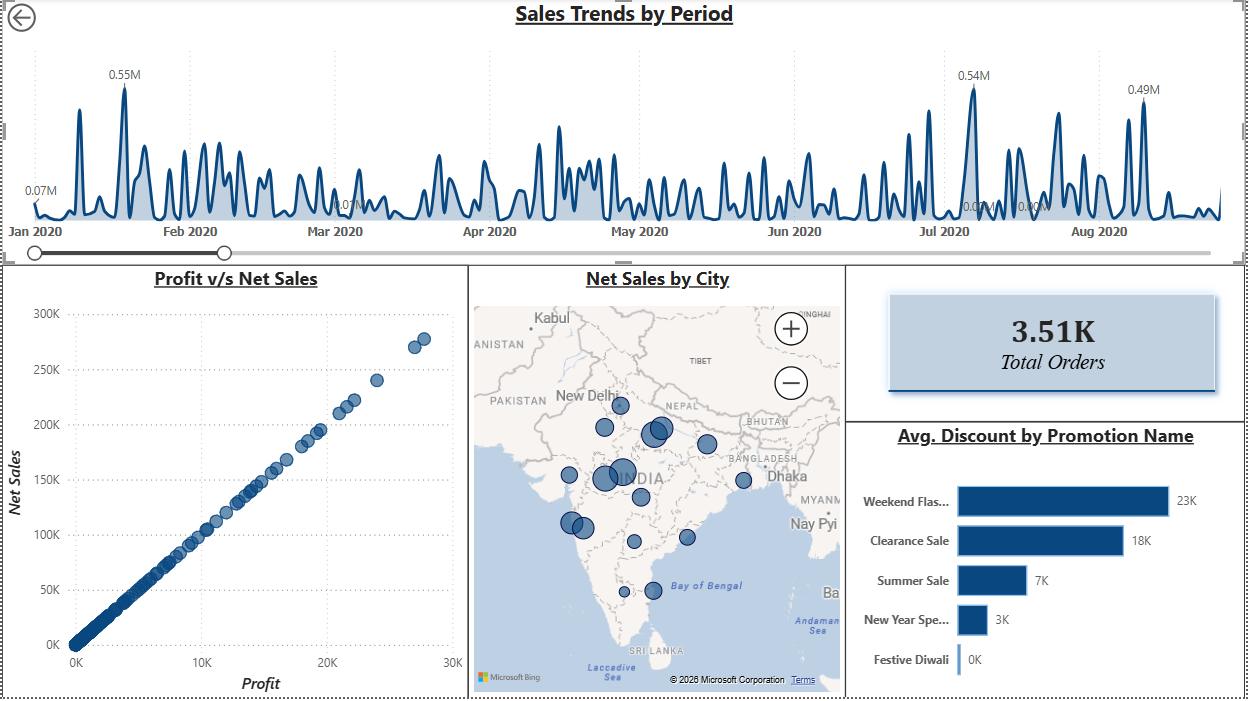

What the dashboard file says about the page in this screenshot:
{"tool":"powerbi","page":{"name":"Sales Overview","canvas":[1280,720],"ordinal":0},"visuals":[{"type":"lineChart","title":"Sales Trends by Period","fields":{"Y":["Sum(Fact Table.Net Sales)"],"Category":["Fact Table.Date (dd/mm/yyyy)"]},"box":[0,0,1280,275],"z":0},{"type":"scatterChart","title":"Profit v/s Net Sales","fields":{"X":["Fact Table.Profit"],"Y":["Fact Table.Net Sales"]},"box":[0,274.3,480,447.1],"z":1000},{"type":"map","title":"Net Sales by City","fields":{"Category":["Dim Customers.City"],"Size":["Sum(Fact Table.Net Sales)"]},"box":[480,274.3,388.6,445.7],"z":2000},{"type":"barChart","title":"Avg. Discount by Promotion Name","fields":{"Y":["Avg(Fact Table.Discount Value)"],"Category":["Dim Promotion.Promotion Name"]},"box":[868.6,435.7,411.4,284.3],"z":3000},{"type":"cardVisual","fields":{"Data":["Count(Fact Table.Order Id)"]},"box":[868.6,274.3,411.4,161.4],"z":4000},{"type":"actionButton","box":[0,0,100,40],"z":5000}]}

Visuals, with their boxes in screenshot pixels (x1, y1, x2, y2), scaled from the page's 1280x720 canvas onto the 1249x701 screenshot:
"Sales Trends by Period" lineChart: <box>0,0,1248,268</box>
"Profit v/s Net Sales" scatterChart: <box>0,267,468,700</box>
"Net Sales by City" map: <box>468,267,848,700</box>
"Avg. Discount by Promotion Name" barChart: <box>848,424,1248,700</box>
cardVisual - Count(Fact Table.Order Id): <box>848,267,1248,424</box>
actionButton: <box>0,0,98,39</box>
